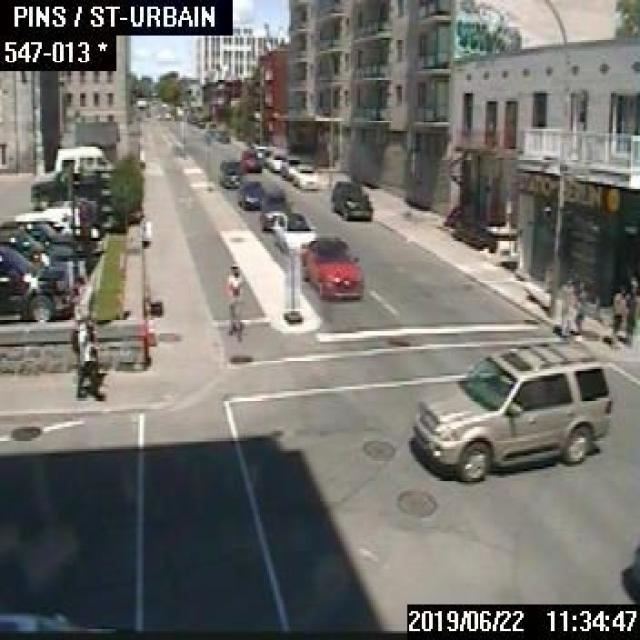cyclist: (224, 264, 244, 340)
pedestrian: (71, 313, 100, 388), (75, 326, 104, 396), (558, 273, 575, 338), (611, 284, 625, 340), (623, 290, 637, 346), (574, 277, 586, 333)
vehicle: (407, 336, 613, 480), (0, 246, 71, 321), (0, 225, 76, 281), (300, 234, 361, 298), (0, 219, 76, 261), (29, 170, 111, 207), (0, 611, 136, 633), (44, 196, 102, 238), (270, 210, 316, 252), (329, 178, 371, 220), (13, 210, 74, 237), (52, 144, 112, 169), (258, 188, 288, 230), (236, 179, 263, 209), (217, 157, 241, 187), (292, 162, 316, 188), (240, 146, 261, 170), (263, 149, 285, 171), (280, 155, 300, 176), (215, 127, 228, 141)
